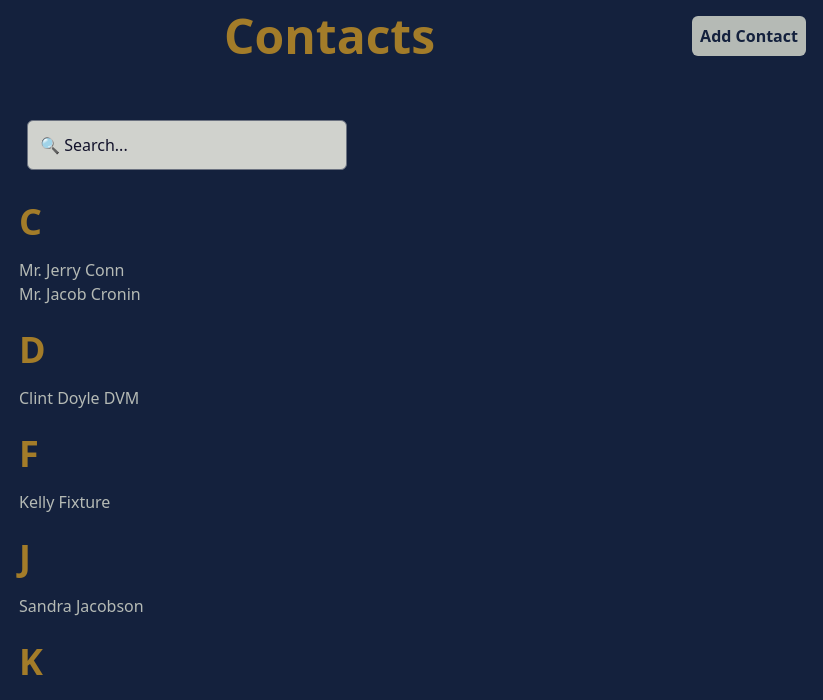
adds a contact
The width and height of the screenshot is (823, 700).
Expected: the link "Joey Abrams" is not shown
# Click on the "Add Contact" link to navigate to the 'Add Contact' page:
Click the link "Add Contact".
click(749, 36)  # box x1=692 y1=16 x2=806 y2=56
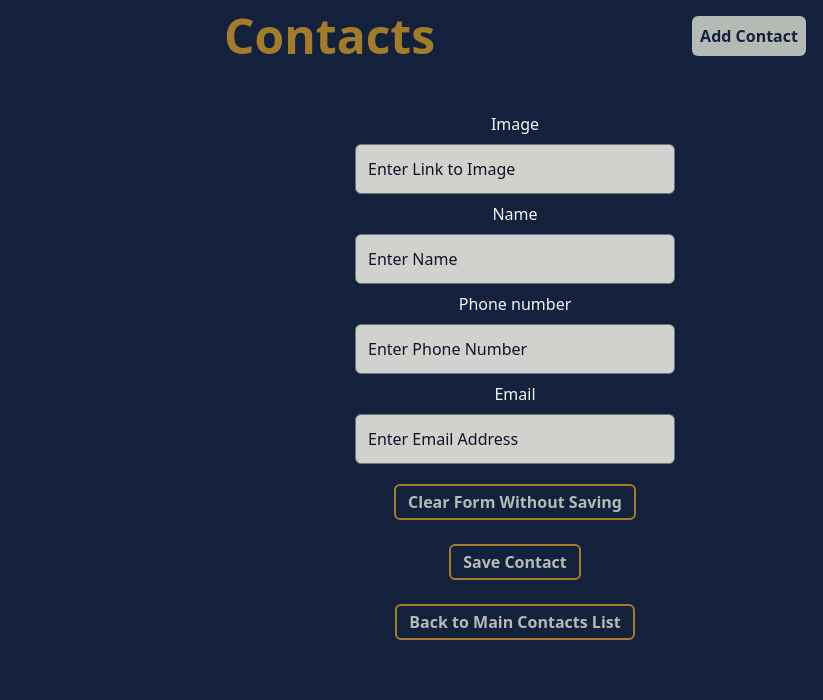
# Fill in the form with the new contact details:
Type "Joey Abrams" into the field labelled "Name".
click(515, 259); type("Joey Abrams")  # box x1=355 y1=234 x2=675 y2=284
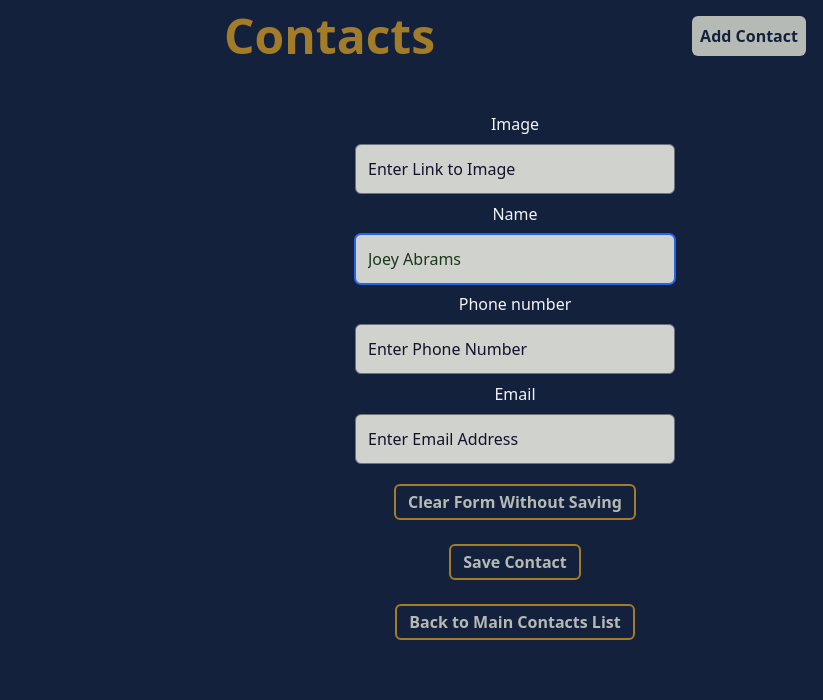
Type "555-555-5555" into the field labelled "Phone number".
click(515, 349); type("555-555-5555")  # box x1=355 y1=324 x2=675 y2=374
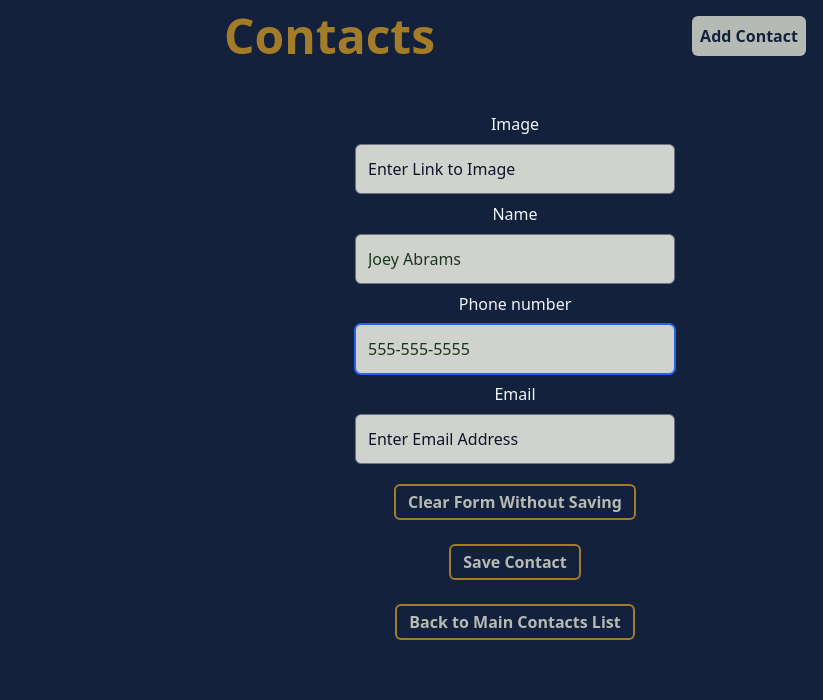
Type "jabrams@test.com" into the field labelled "Email".
click(515, 439); type("jabrams@test.com")  # box x1=355 y1=414 x2=675 y2=464
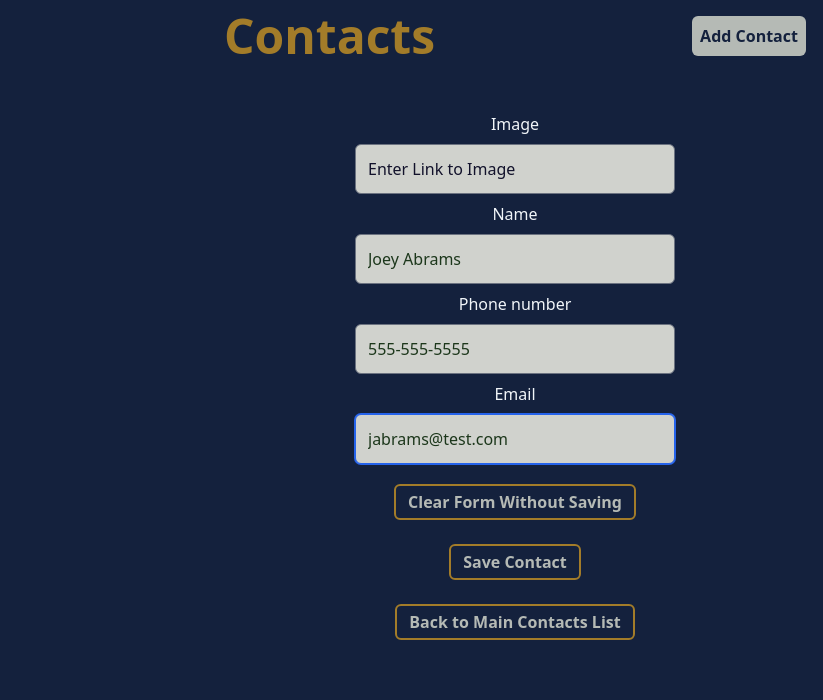
# Click the "Save Contact" button:
Click the button "Save Contact".
click(515, 562)  # box x1=449 y1=544 x2=581 y2=580
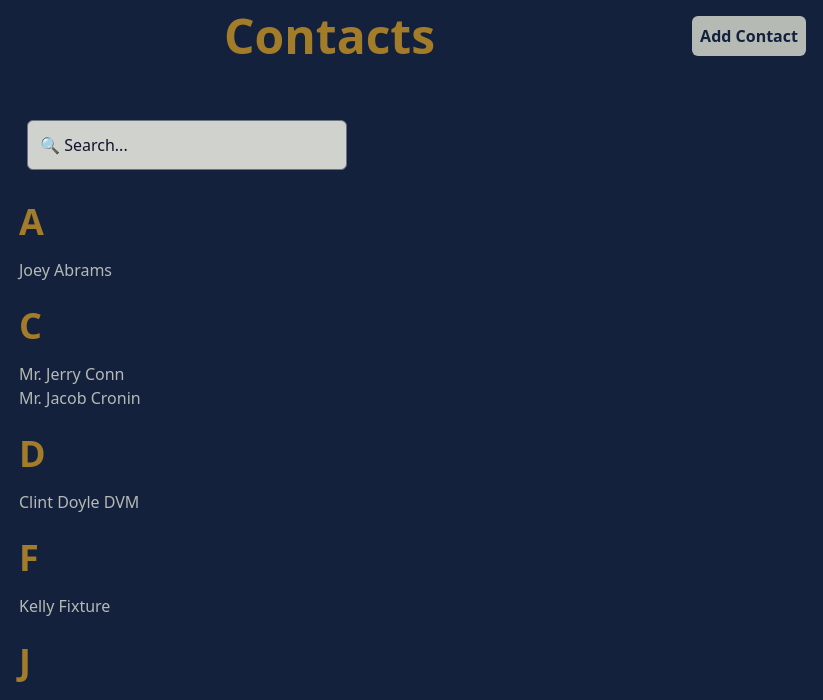
Now the number of list items is 11
Now the link "Joey Abrams" is shown, box x1=19 y1=259 x2=112 y2=281
